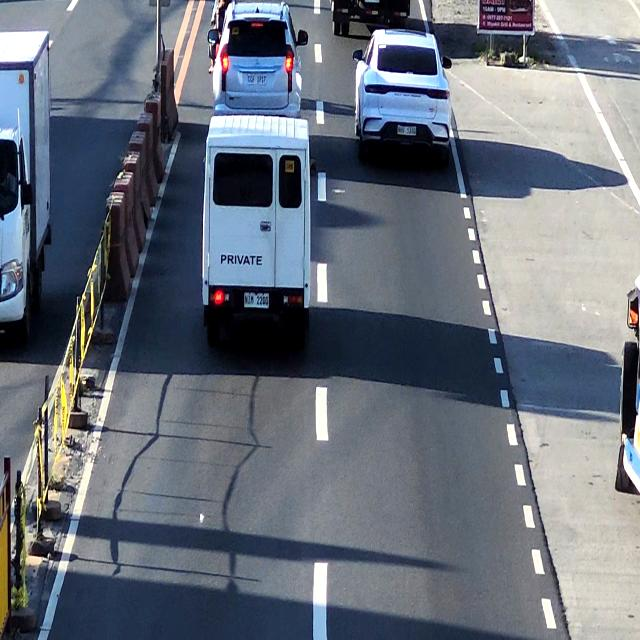Car: (204, 110, 316, 362), (354, 26, 450, 158), (213, 3, 303, 102)
License-Plate: (243, 289, 269, 310), (247, 71, 267, 86), (398, 125, 418, 139)
